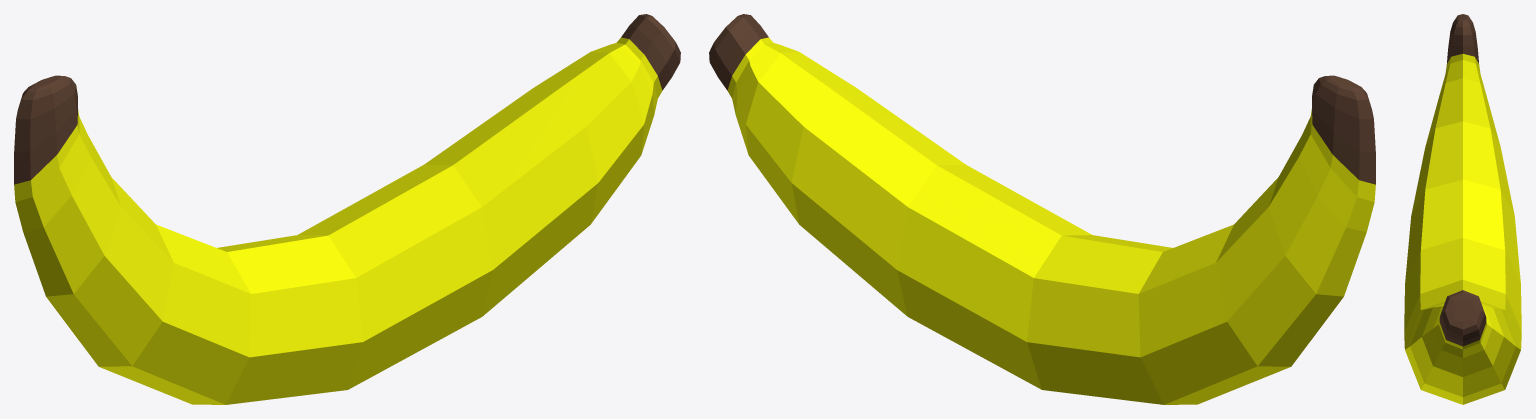
The model's file is Bannana fbx.fbx.
3 views of the same model, side by side, from view 1: azimuth 30°, elevation 25°; view 2: azimuth 150°, elevation 25°; view 3: azimuth 270°, elevation 25° (orthographic). The views are drawn at different scales.
Visible parts, largest first — view 1: Cube.001; view 2: Cube.001; view 3: Cube.001.
Boxes of the visible parts, bbox=[...] form: Cube.001: bbox=[14, 14, 680, 404]; Cube.001: bbox=[709, 14, 1375, 404]; Cube.001: bbox=[1404, 14, 1521, 404].
Bounding box in the file's own units: 36.87 × 20.04 × 7.81.
